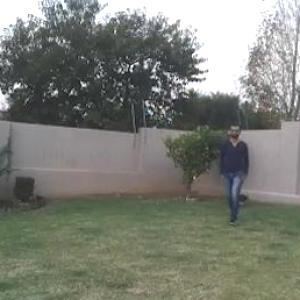follow: (218, 122, 248, 226)
